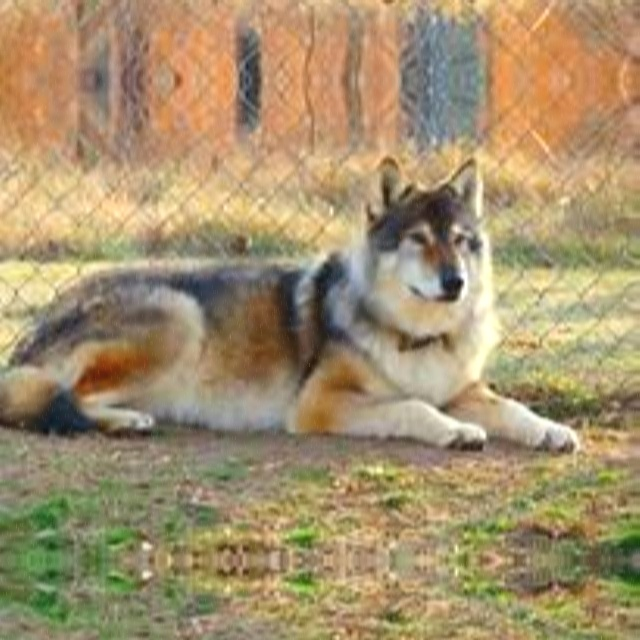dog: (21, 137, 577, 525), (21, 594, 576, 640), (21, 0, 576, 21)
